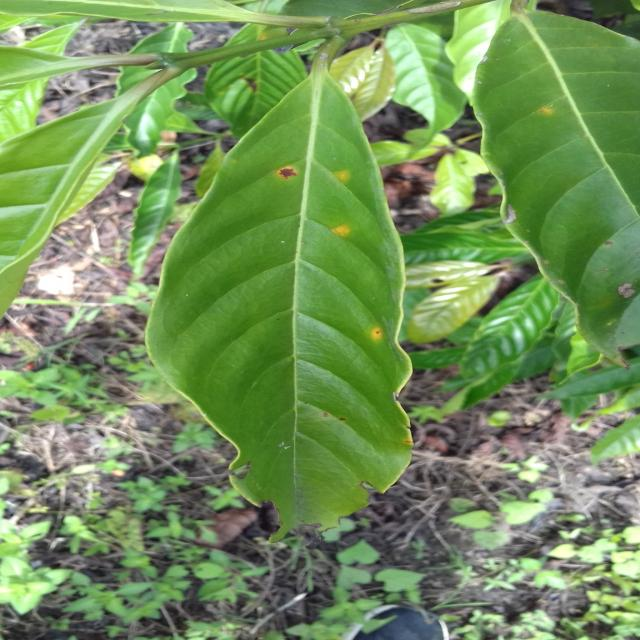Enfermedad-Roya: (144, 70, 414, 532)
